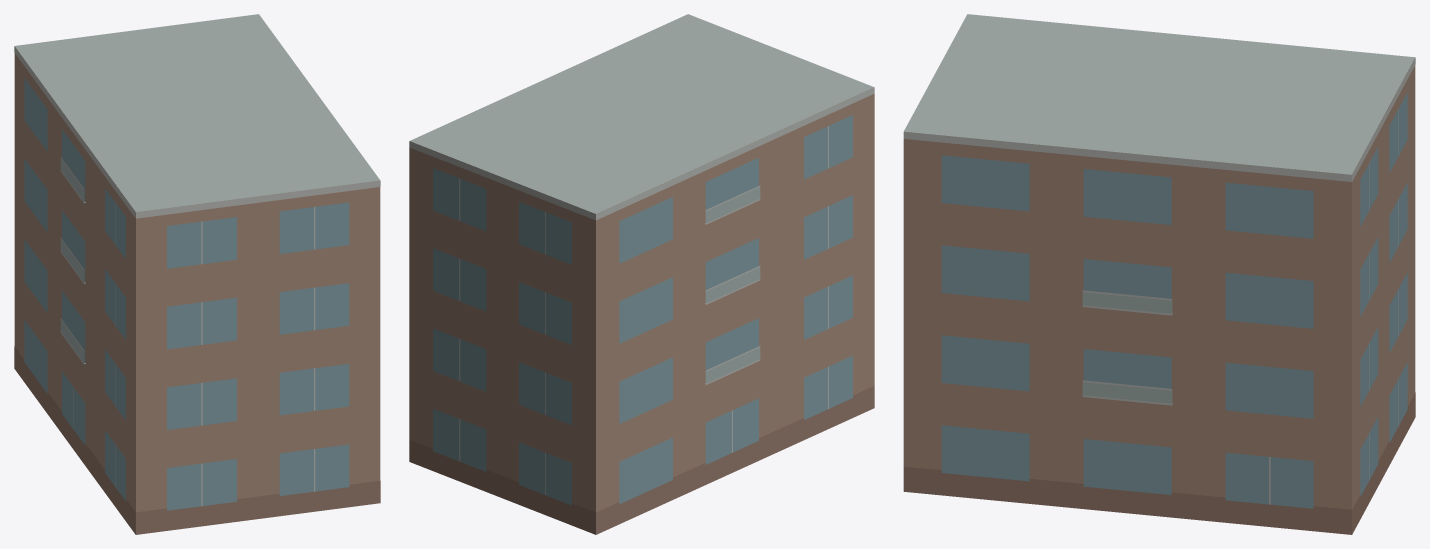
The model's file is residential-2e879207-de86-4117-9999-4c1b0ec84dc2.glb.
3 renders of one model, left to right at view 1: azimuth 30°, elevation 25°; view 2: azimuth 150°, elevation 25°; view 3: azimuth 270°, elevation 25°, orthographic. The views are drawn at different scales.
Visible parts, largest first — view 1: residential-2e879207-de86-4117-9999-4c1b0ec84dc2.tmp; view 2: residential-2e879207-de86-4117-9999-4c1b0ec84dc2.tmp; view 3: residential-2e879207-de86-4117-9999-4c1b0ec84dc2.tmp.
Boxes of the visible parts, left/top/right/bottom form: residential-2e879207-de86-4117-9999-4c1b0ec84dc2.tmp: left=14, top=14, right=380, bottom=534; residential-2e879207-de86-4117-9999-4c1b0ec84dc2.tmp: left=409, top=14, right=874, bottom=534; residential-2e879207-de86-4117-9999-4c1b0ec84dc2.tmp: left=903, top=14, right=1415, bottom=534.
Bounding box in the file's own units: 11.7 × 12.2 × 15.73.
